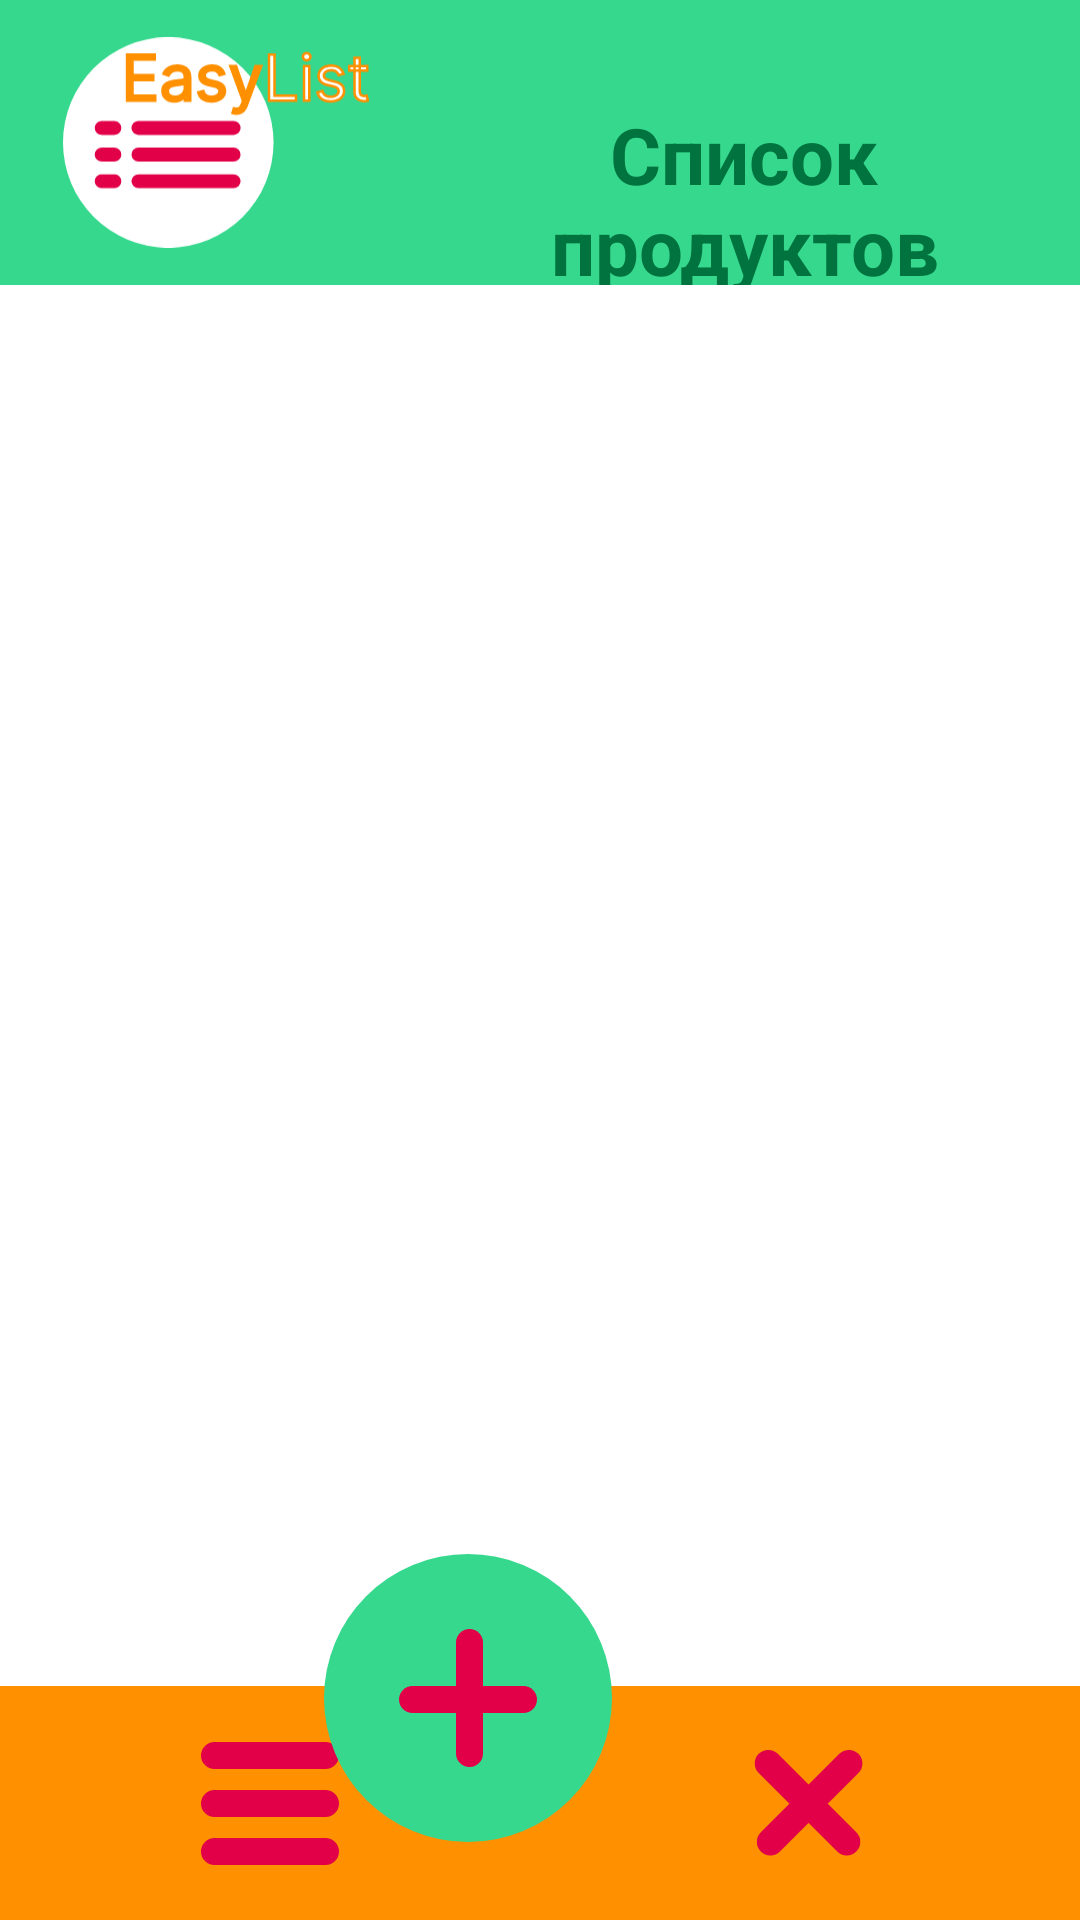

Icon click points for this 1080 × 1920 phone screenshot, format [x,y]:
add new product: [468,1698]
